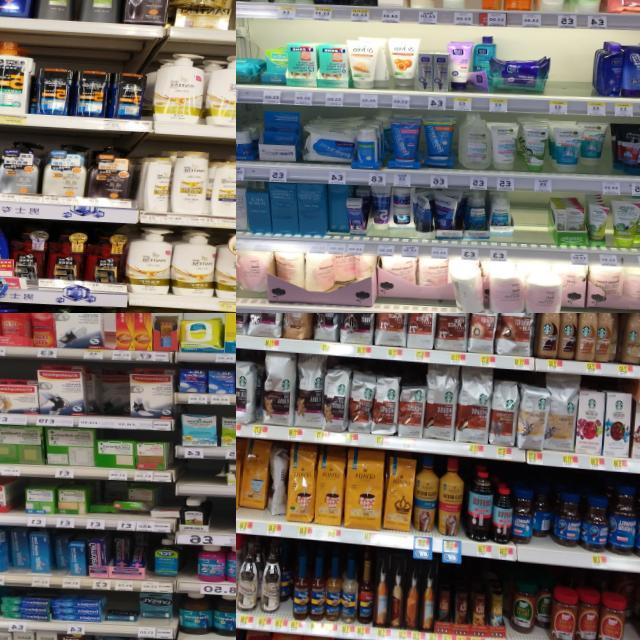empty: (549, 36, 594, 116), (514, 194, 548, 261), (184, 458, 222, 496), (212, 498, 236, 545), (178, 545, 196, 592)
